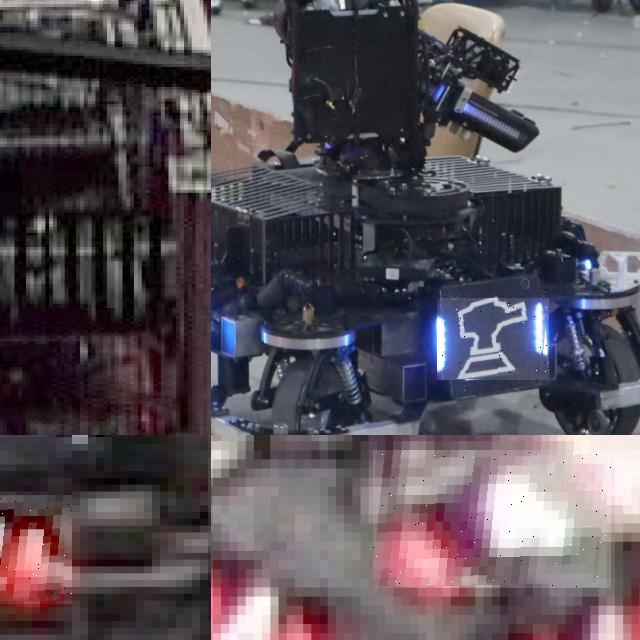Bs: (437, 298, 549, 380)
R2: (0, 495, 72, 604)
R4: (373, 450, 611, 588), (211, 550, 323, 640), (487, 587, 640, 640)
